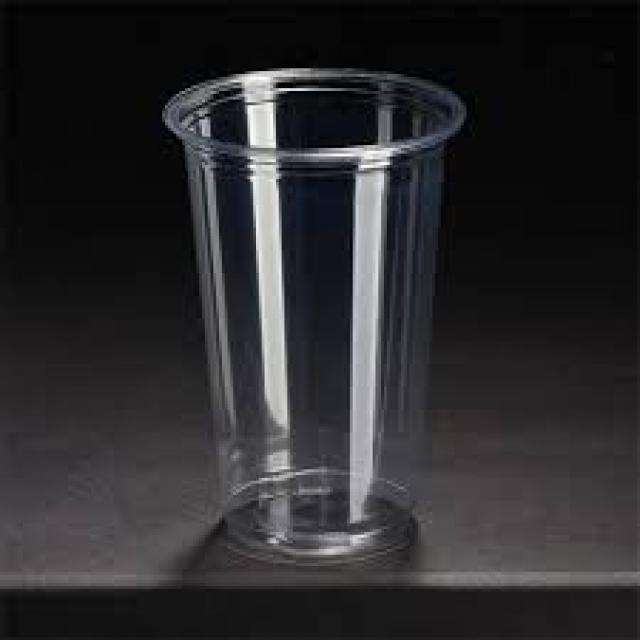plastic: (162, 68, 465, 566)
